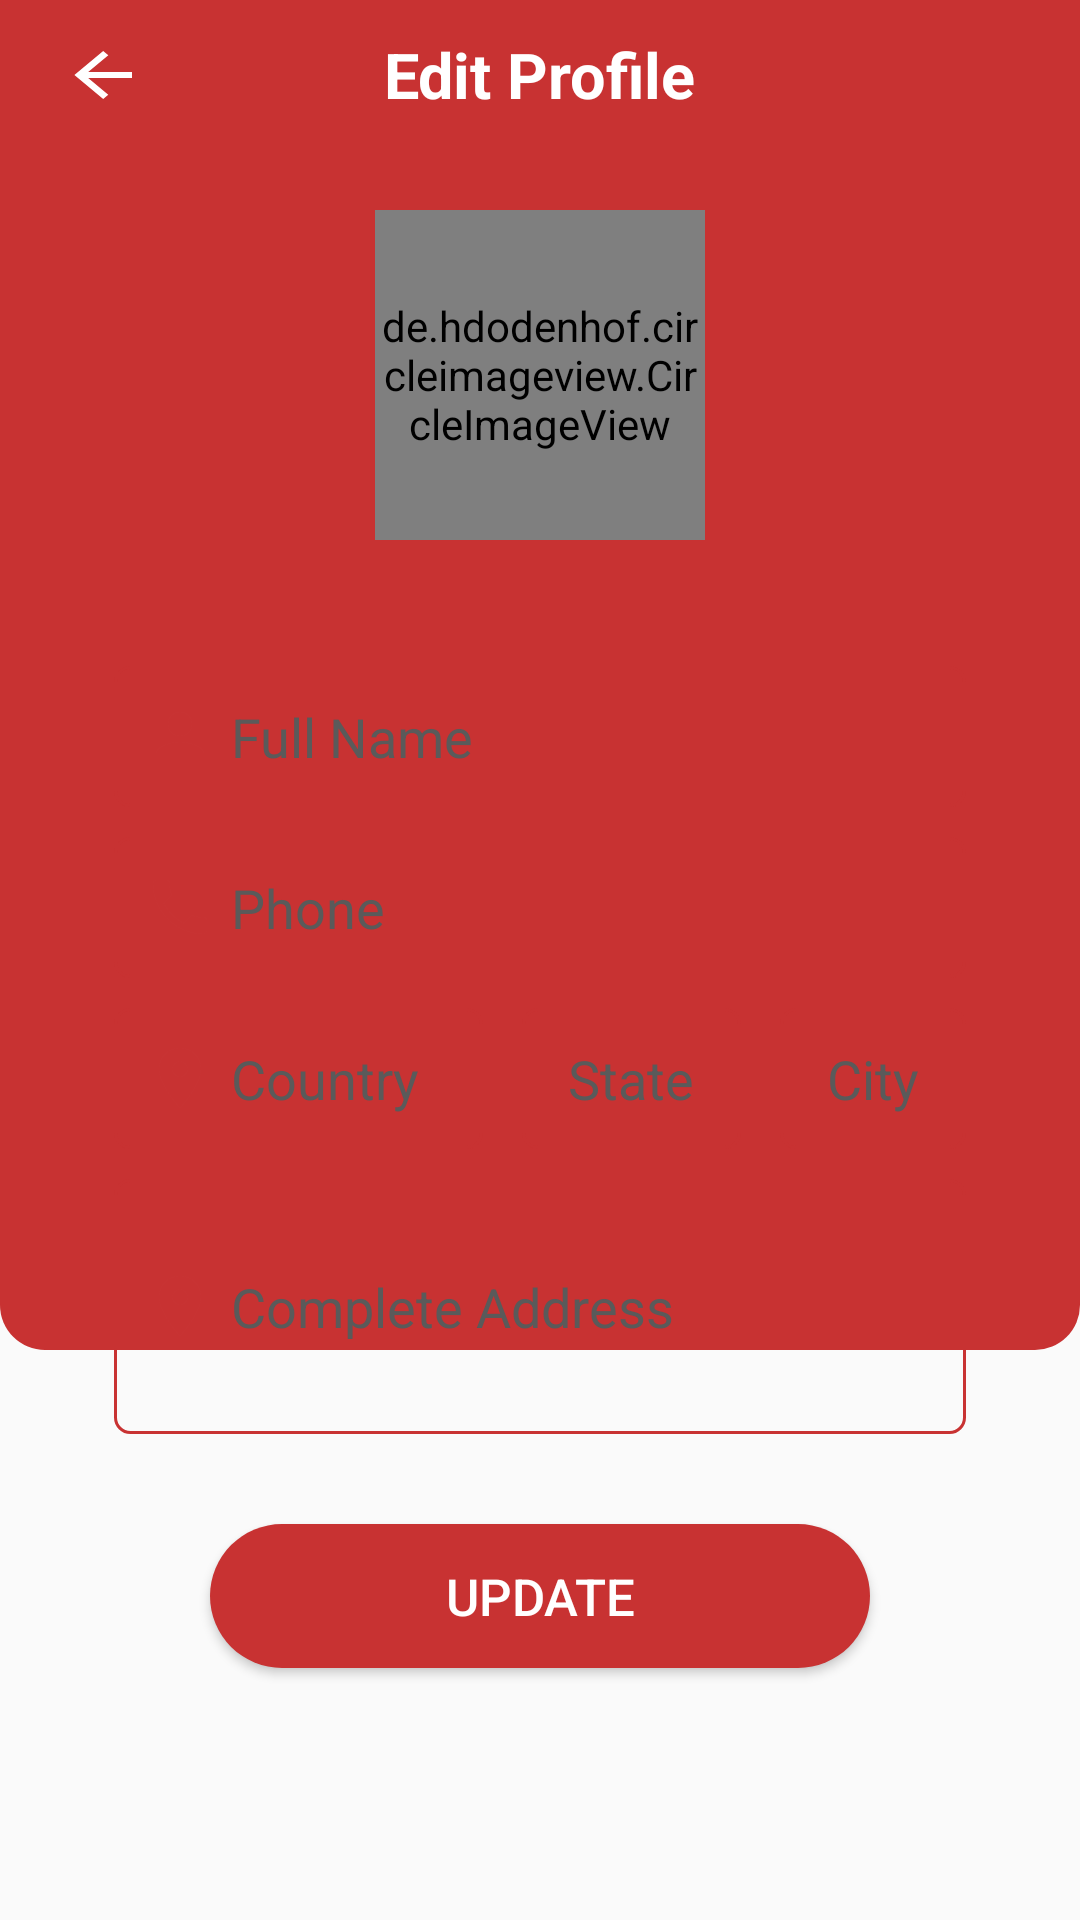

Icons on this 1080 x 1920 Android screen, each with the point to tap as point (x, y):
arrow: point (103, 75)
